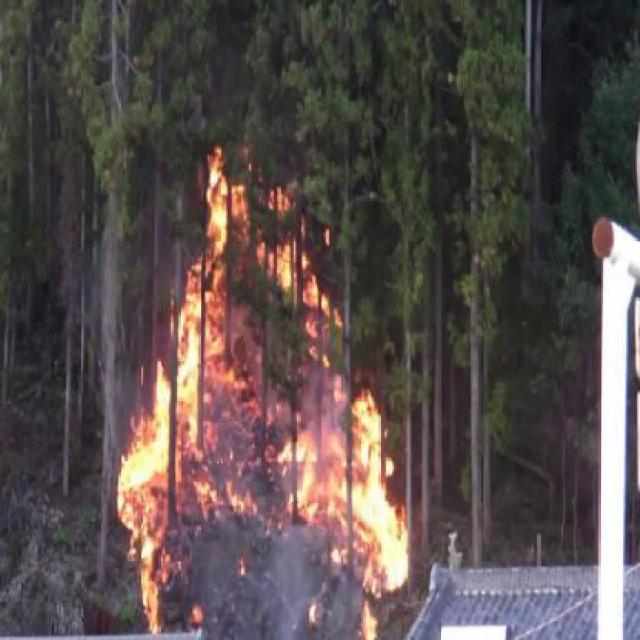Fire: (232, 175, 343, 368), (182, 143, 230, 512), (119, 365, 170, 633), (278, 414, 346, 536), (356, 500, 412, 598), (232, 370, 266, 472), (352, 386, 383, 494), (121, 448, 168, 482), (226, 480, 257, 516), (359, 600, 381, 638), (381, 454, 397, 480)
